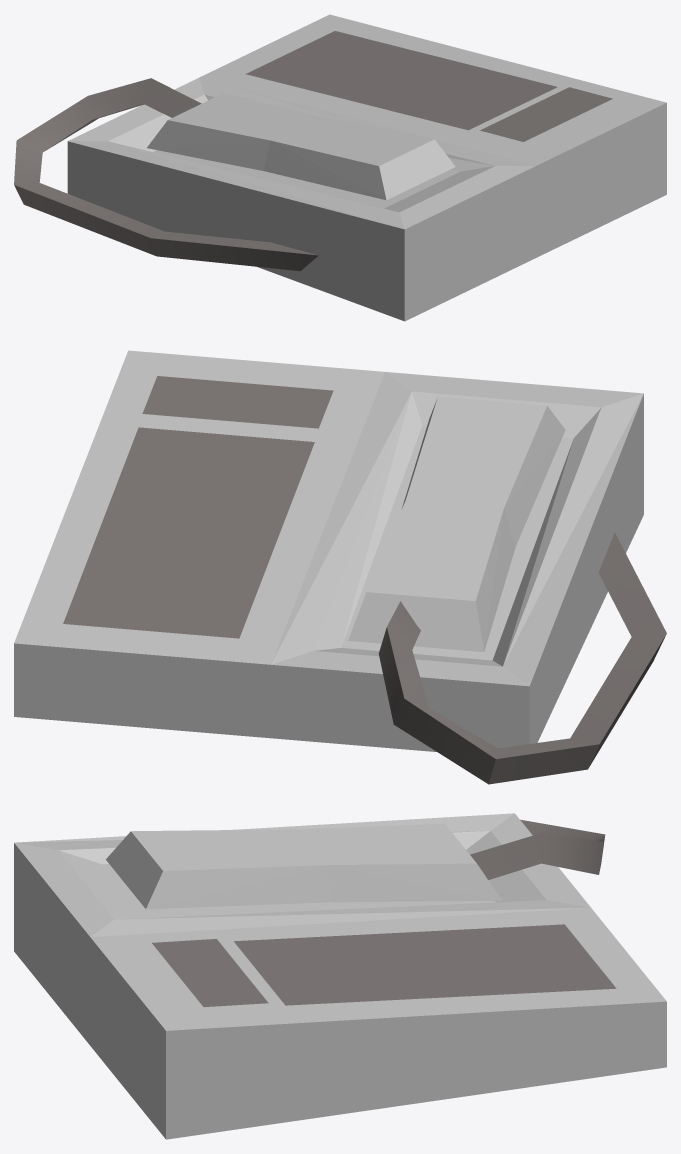
File: SM_Tel_01.FBX
3 views of the same model, one above another, from view 1: azimuth 30°, elevation 25°; view 2: azimuth 150°, elevation 25°; view 3: azimuth 270°, elevation 25° (orthographic). The views are drawn at different scales.
Visible parts, largest first — view 1: SM_Tel_01; view 2: SM_Tel_01; view 3: SM_Tel_01.
Boxes of the visible parts, x1,y1,x2,y2 form: SM_Tel_01: [14, 14, 666, 321]; SM_Tel_01: [14, 350, 666, 784]; SM_Tel_01: [14, 813, 666, 1139].
Size of the model in its own units: 34.37 by 32.56 by 7.37.
